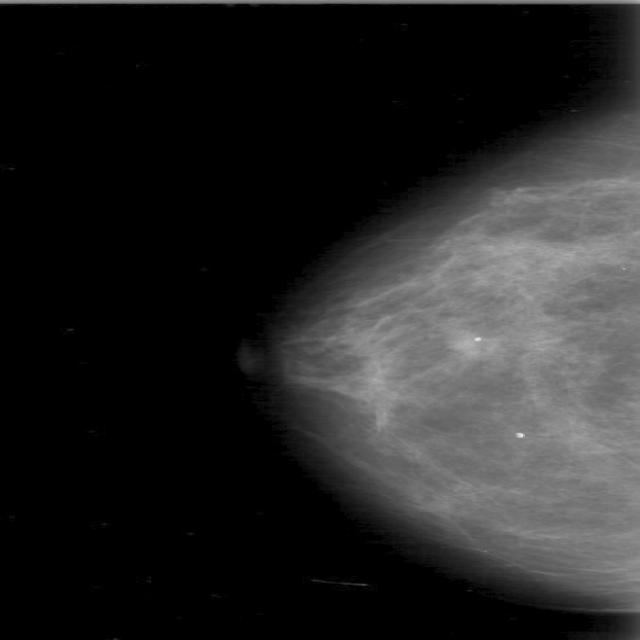tumour: (448, 333, 497, 358)
